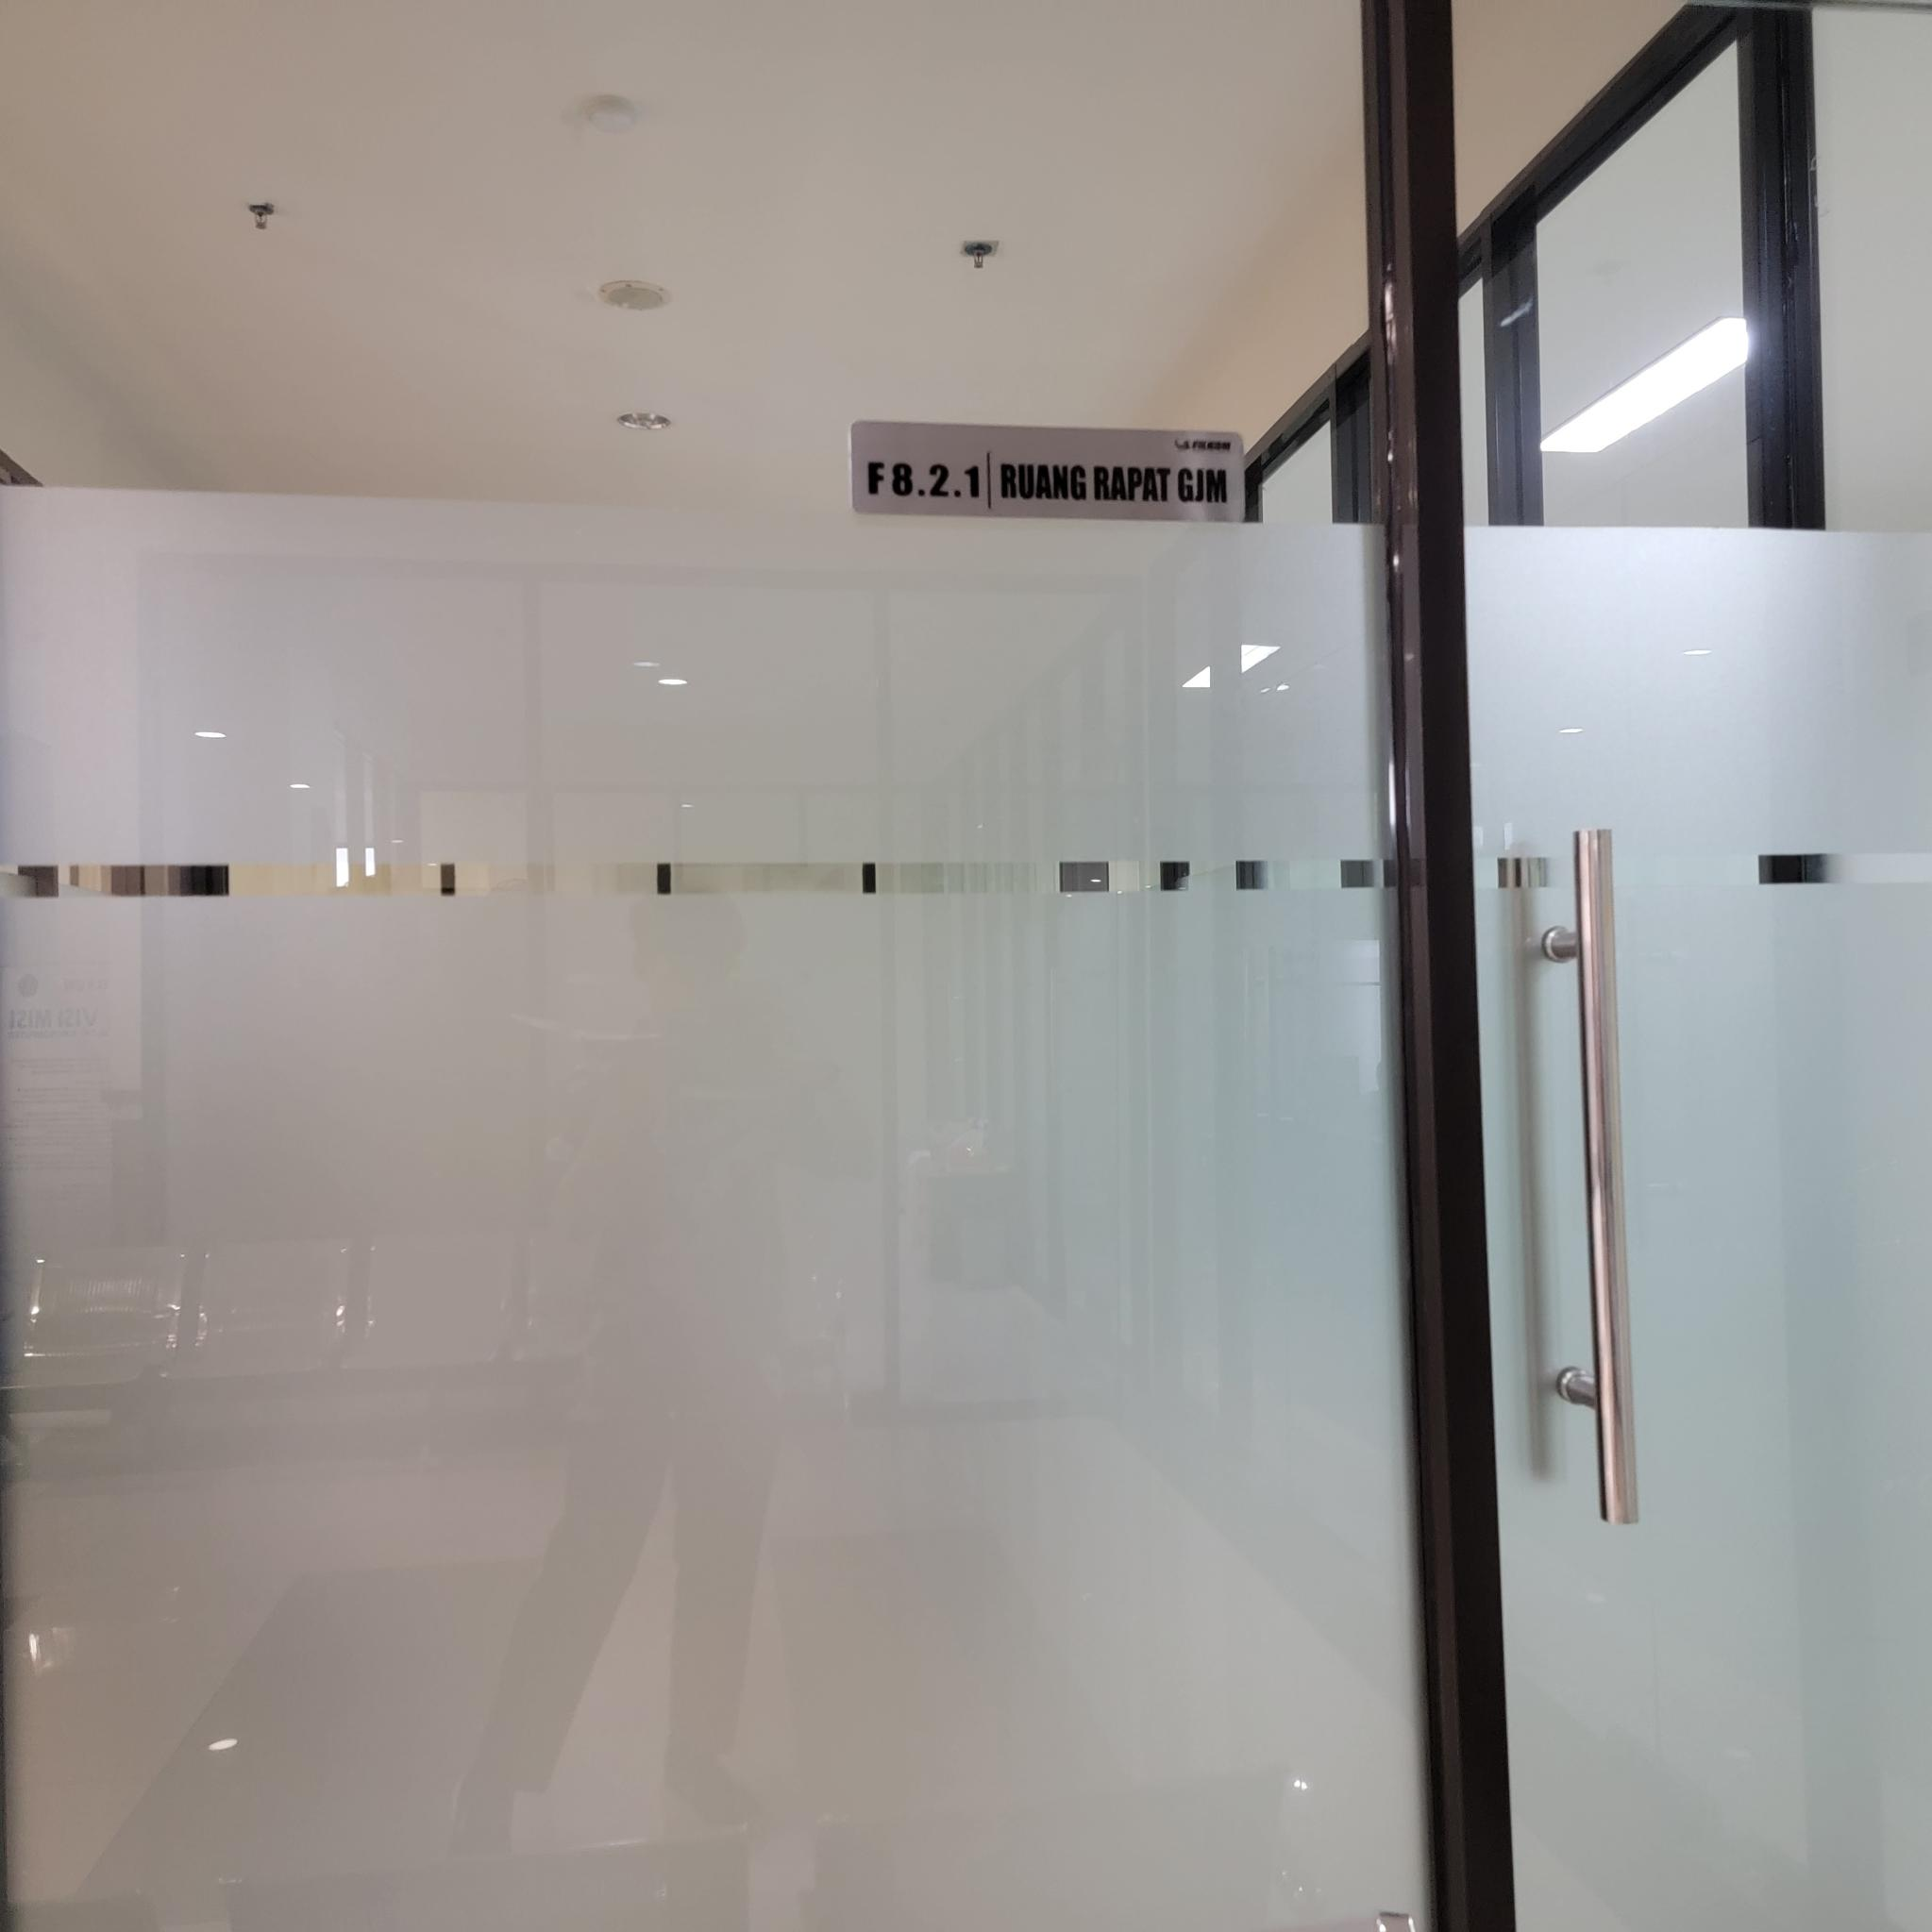plate: (846, 414, 1244, 529)
